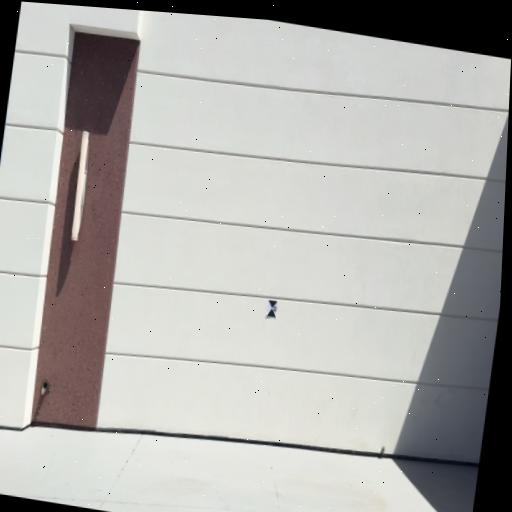target0: (267, 299, 279, 318)
